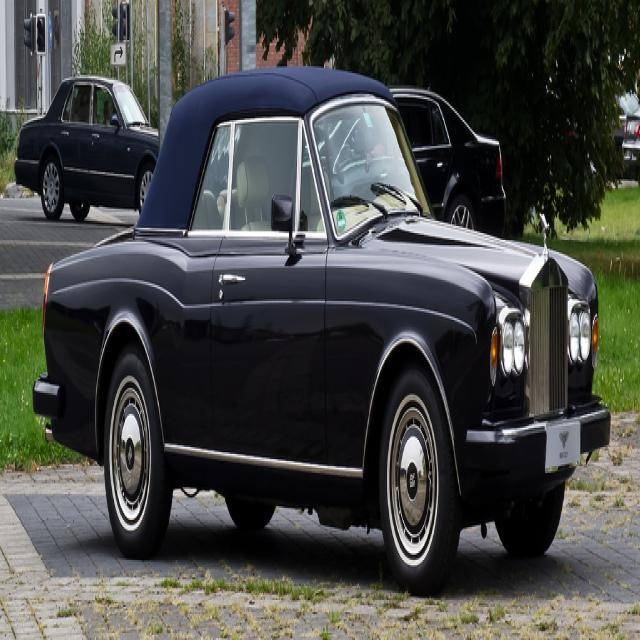car: (14, 96, 615, 562)
